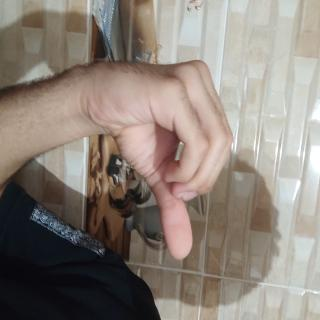WAW: (37, 112, 196, 320)
